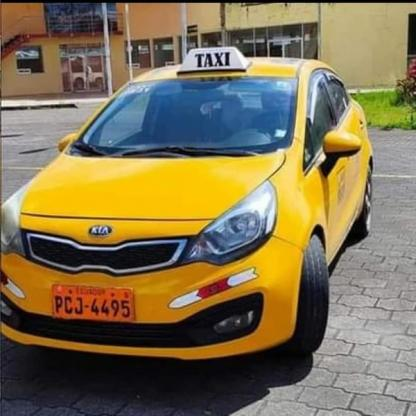Placa: (50, 280, 140, 324)
